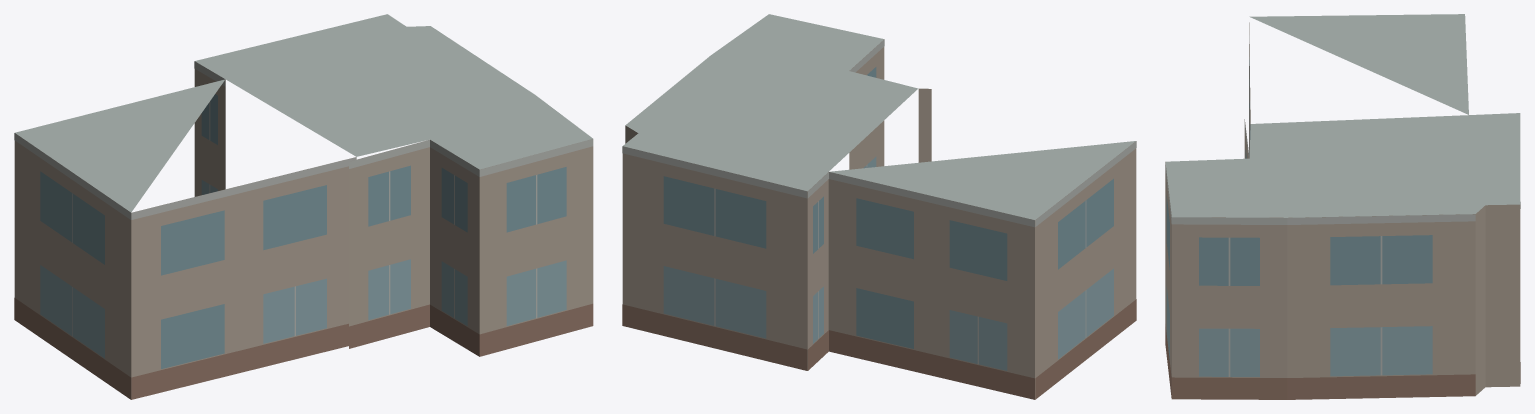
File: survey-upis-32464715.glb
3 views of the same model, side by side, from view 1: azimuth 30°, elevation 25°; view 2: azimuth 150°, elevation 25°; view 3: azimuth 270°, elevation 25° (orthographic). The views are drawn at different scales.
Parts seen in each view (by area): view 1: survey-upis-32464715.tmp; view 2: survey-upis-32464715.tmp; view 3: survey-upis-32464715.tmp.
Part boxes in pixels (x1,y1,x2,y2): survey-upis-32464715.tmp: (14, 14, 593, 399); survey-upis-32464715.tmp: (622, 14, 1136, 399); survey-upis-32464715.tmp: (1165, 14, 1520, 399).
Size of the model in its own units: 14.65 by 6.1 by 10.79.
